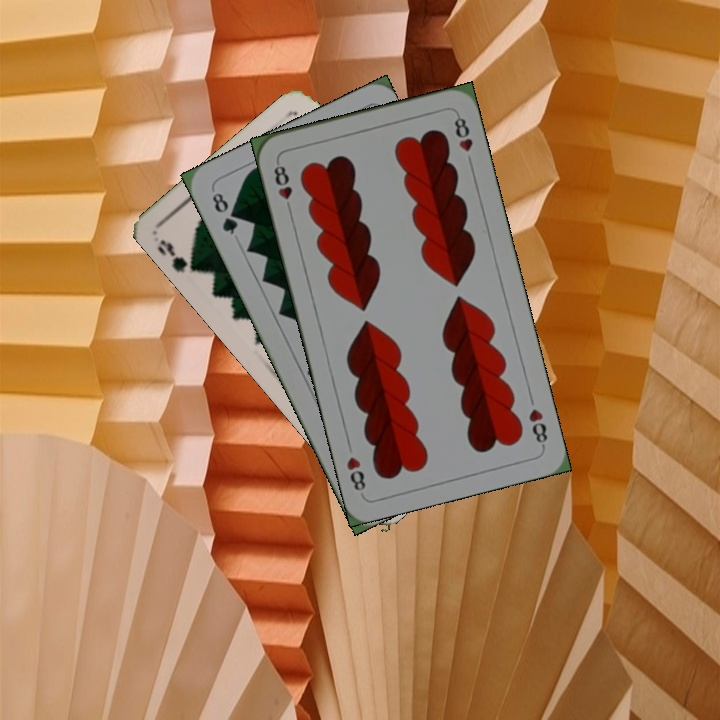G8: (208, 188, 241, 238)
G9: (153, 235, 204, 275)
H8: (270, 157, 295, 216), (524, 404, 550, 450)
